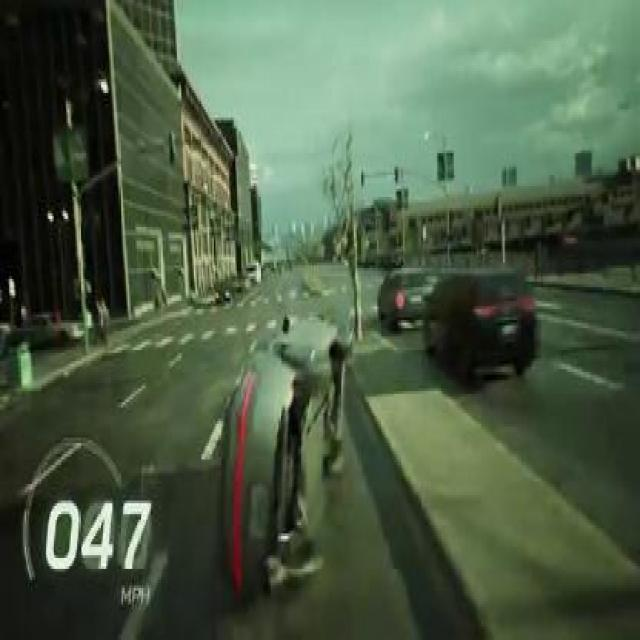accident: (204, 297, 353, 606)
